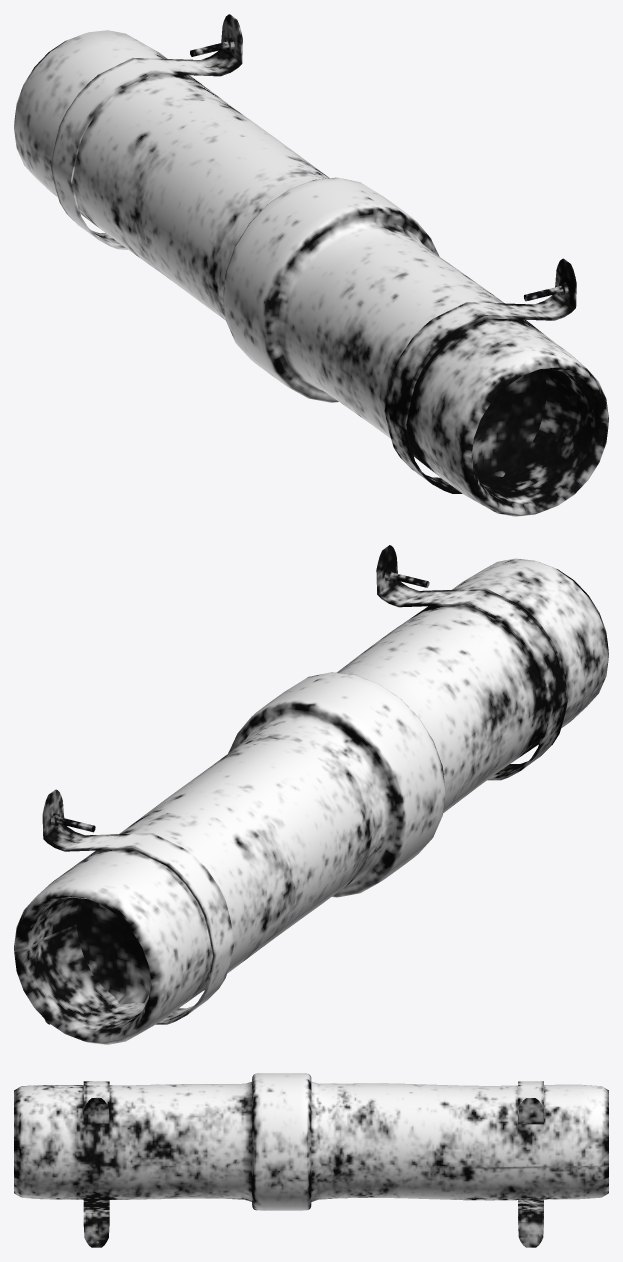
Rendered from SM_Pipe_Short.fbx.
The picture shows the model from 3 angles, top to bottom: view 1: azimuth 30°, elevation 25°; view 2: azimuth 150°, elevation 25°; view 3: azimuth 270°, elevation 25°; orthographic projection. The views are drawn at different scales.
Visible parts, largest first — view 1: SM_Pipe_Short; view 2: SM_Pipe_Short; view 3: SM_Pipe_Short.
Part boxes in pixels (bbox=[...]): SM_Pipe_Short: bbox=[14, 14, 608, 516]; SM_Pipe_Short: bbox=[14, 545, 608, 1044]; SM_Pipe_Short: bbox=[14, 1073, 608, 1247].
Bounding box in the file's own units: 23.17 × 100 × 27.66.
Materials: 1 (1 with a texture image).
